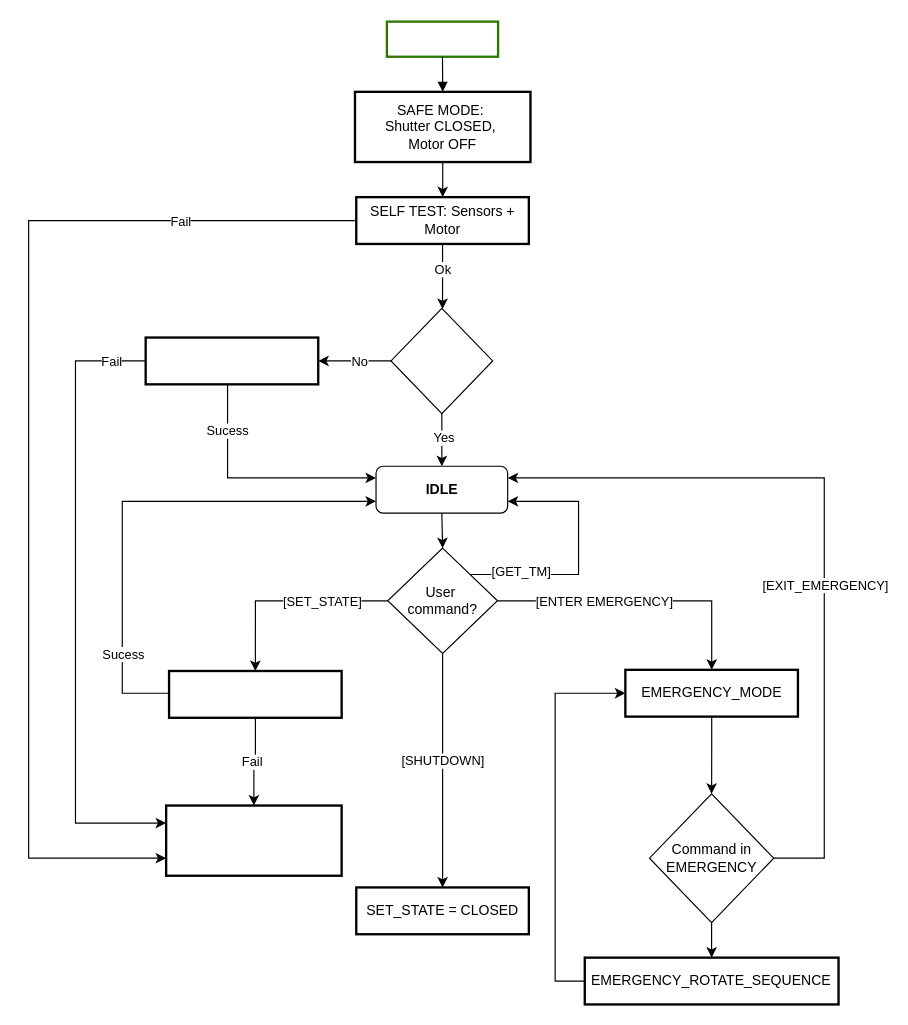
Some shapes in this 908 by 1025 pixel diagram are drawn without their labels. The shapes that lost their labels are listed below. From the top down, each one's centre as x and y in pixels, then its label:
point (231, 360): HOMING / INITIAL CALIBRATION
point (441, 360): Is position known?
point (254, 693): ROTATE_SEQUENCE
point (253, 840): ERROR_STATE: Motor OFF, Shutter CLOSED
